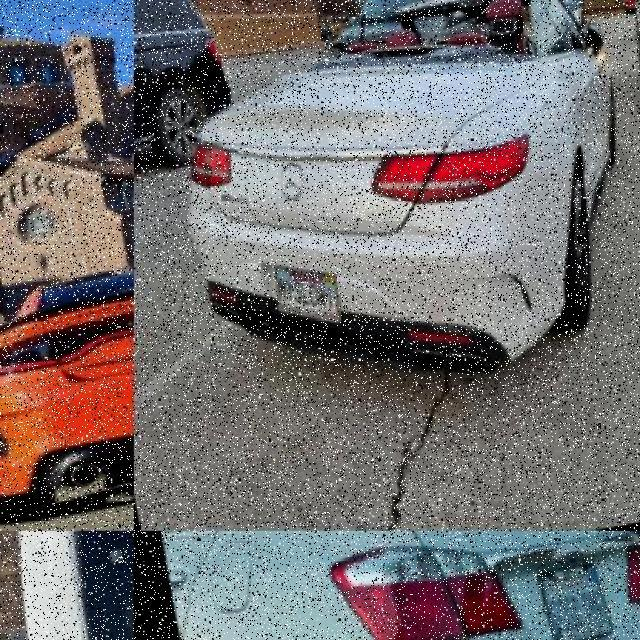LicensePlate: (533, 564, 611, 639), (268, 265, 335, 326)
